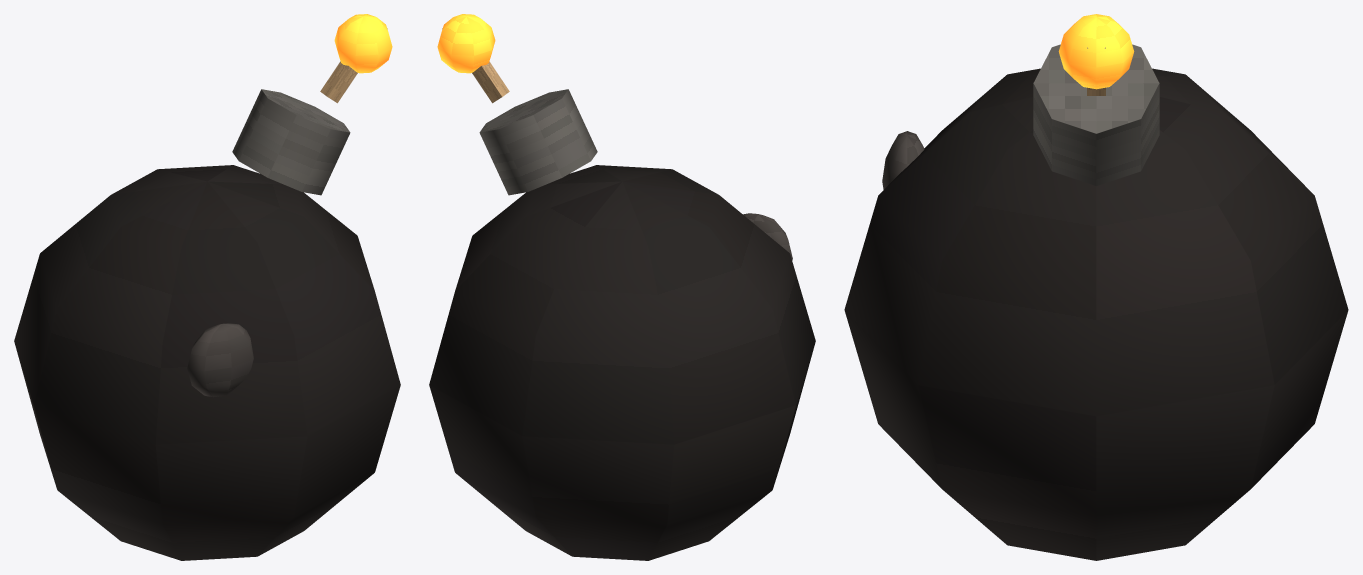
File: bomba.glb
3 renders of one model, left to right at view 1: azimuth 30°, elevation 25°; view 2: azimuth 150°, elevation 25°; view 3: azimuth 270°, elevation 25°, orthographic. The views are drawn at different scales.
Parts seen in each view (by area): view 1: bomba; view 2: bomba; view 3: bomba.
Part boxes in pixels (box(x1,y1,x2,y2)): bomba: box(14, 14, 400, 560); bomba: box(429, 14, 815, 560); bomba: box(844, 14, 1348, 560).
Size of the model in its own units: 0.82 by 1.08 by 0.8.
5 materials, 5 textured.
